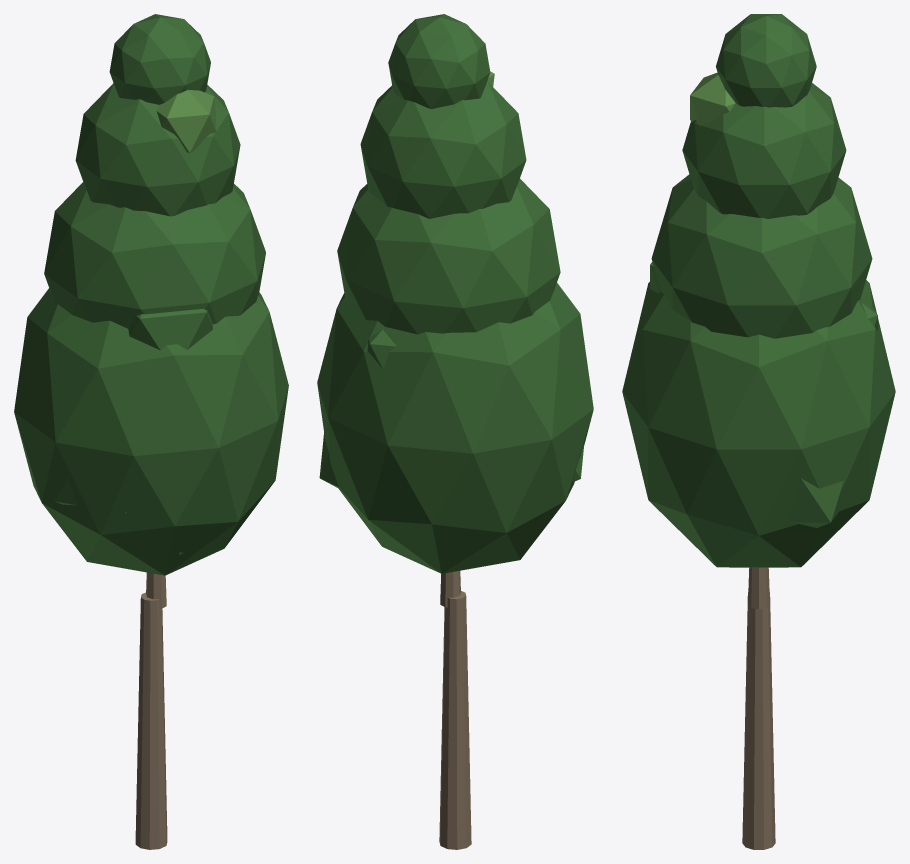
The model's file is leafy_tree_b.glb.
The picture shows the model from 3 angles, left to right: view 1: azimuth 30°, elevation 25°; view 2: azimuth 150°, elevation 25°; view 3: azimuth 270°, elevation 25°; orthographic projection.
Parts seen in each view (by area): view 1: leafy_tree_b; view 2: leafy_tree_b; view 3: leafy_tree_b.
Part boxes in pixels (box(x1,y1,x2,y2)): leafy_tree_b: box(14, 14, 288, 849); leafy_tree_b: box(317, 14, 593, 849); leafy_tree_b: box(622, 14, 895, 849).
Size of the model in its own units: 2.47 by 8.3 by 2.47.
